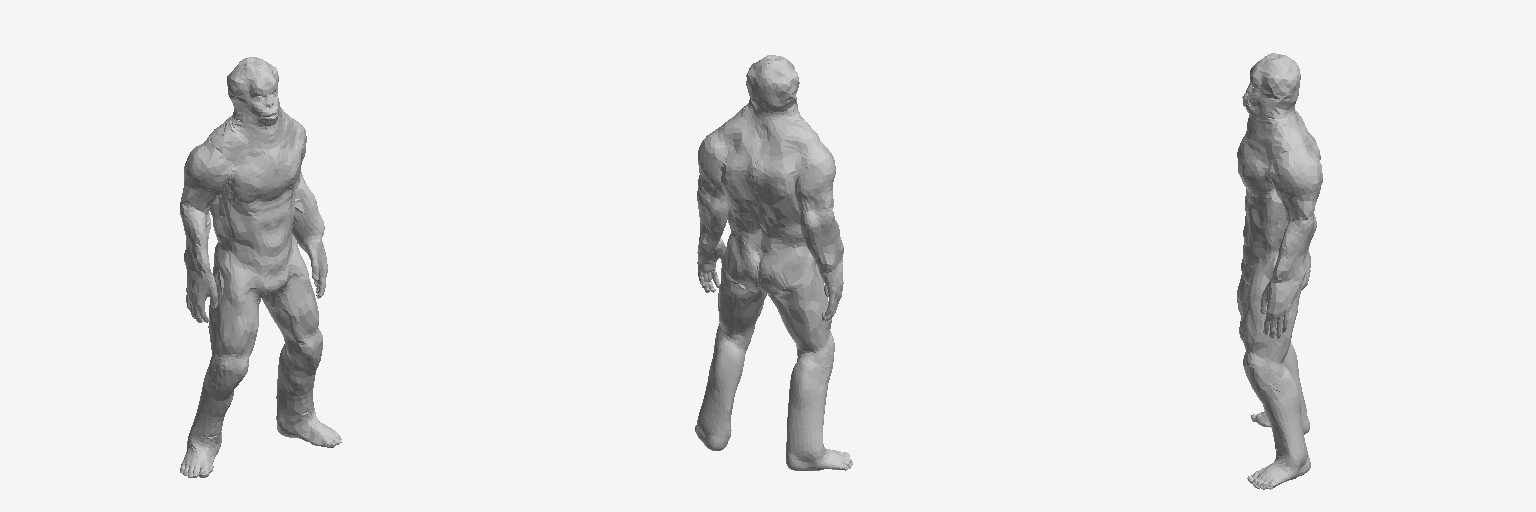
The model's file is Yeti_Dead-bl.obj.
3 views of the same model, side by side, from view 1: azimuth 30°, elevation 25°; view 2: azimuth 150°, elevation 25°; view 3: azimuth 270°, elevation 25° (orthographic).
Parts seen in each view (by area): view 1: Group27054; view 2: Group27054; view 3: Group27054.
Boxes of the visible parts, box(x1,y1,x2,y2) form: Group27054: box(180, 57, 341, 477); Group27054: box(695, 55, 852, 470); Group27054: box(1237, 53, 1322, 489).
Size of the model in its own units: 3.22 by 7.83 by 1.54.